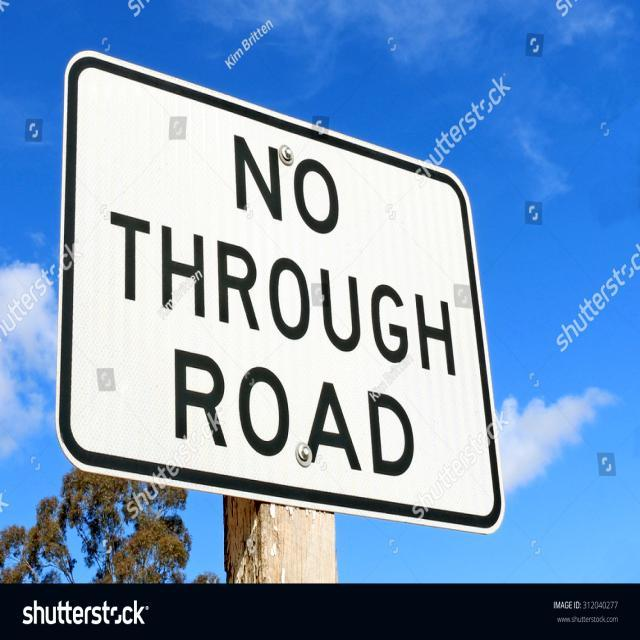Traffic sign: (51, 43, 512, 539)
